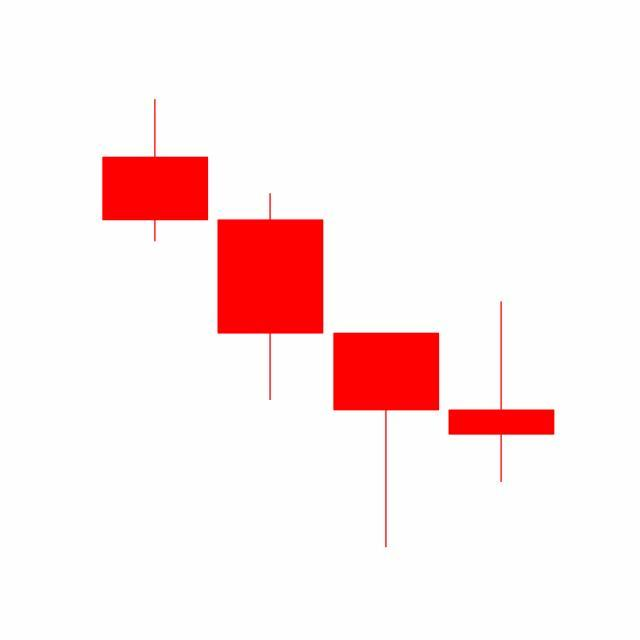Hammer: (329, 331, 445, 550)
